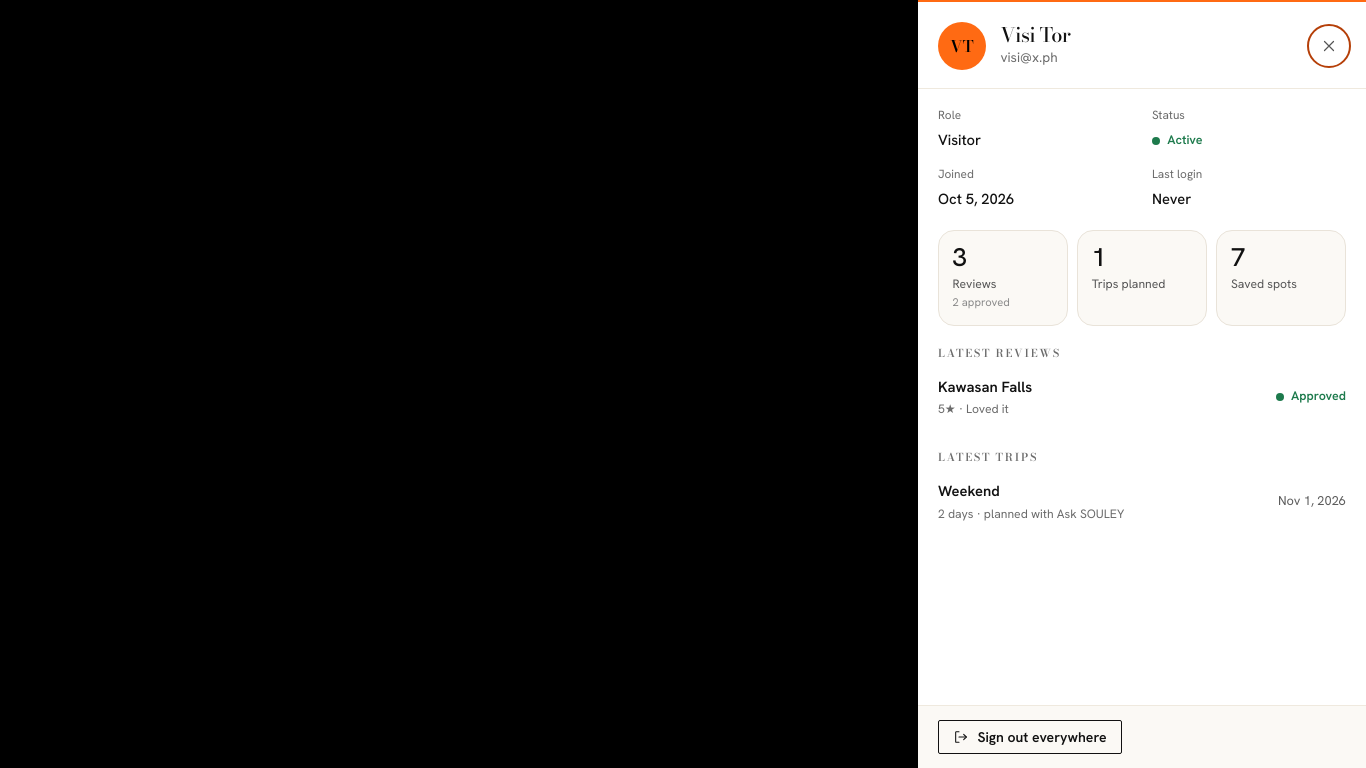
Test: UserPanel › signs the person out everywhere after a confirm, and tells the list to reload
Step 1. Click the button "Sign out everywhere" → (1030,737), box [938,720,1122,754]
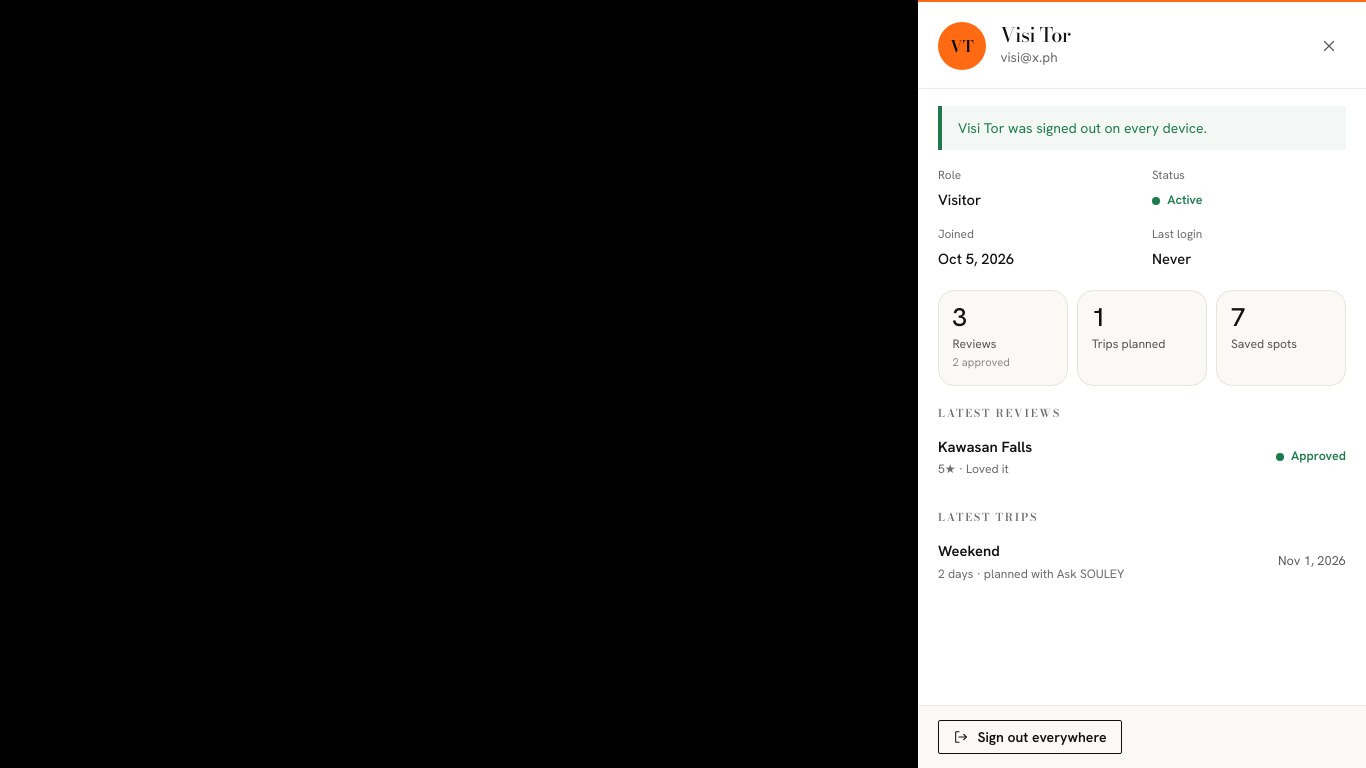
Now the text "Visi Tor was signed out on every device." is shown, box [938,106,1346,150]
